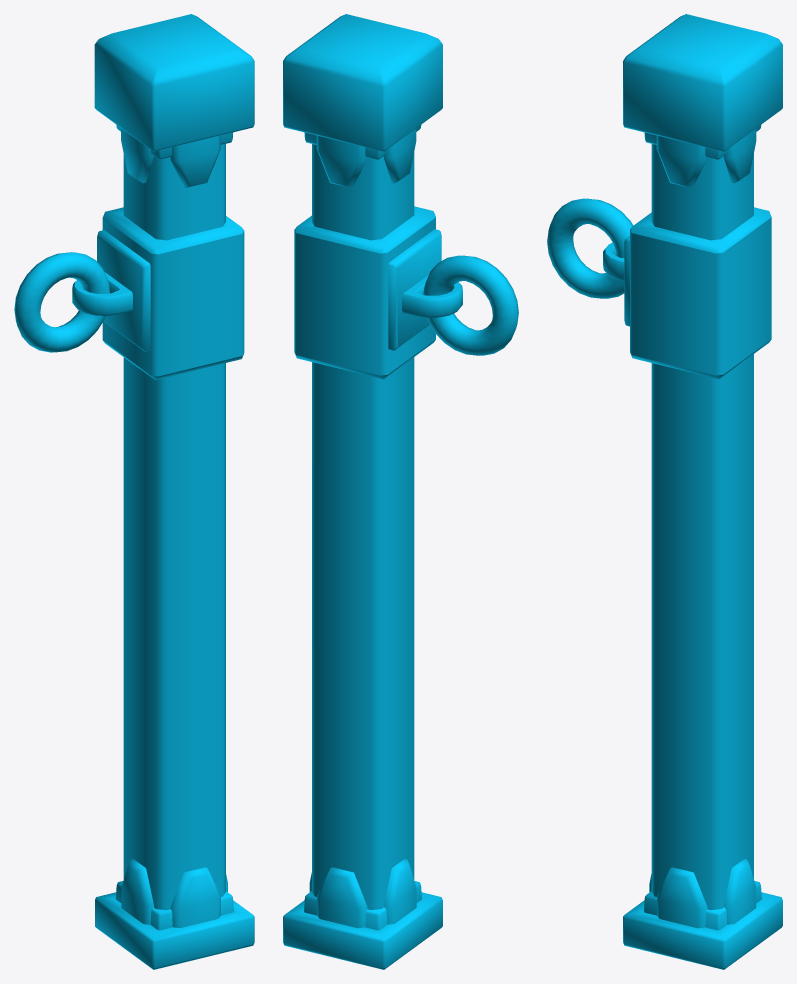
File: PillarSimple.FBX
3 renders of one model, left to right at view 1: azimuth 30°, elevation 25°; view 2: azimuth 150°, elevation 25°; view 3: azimuth 330°, elevation 25°, orthographic.
Parts seen in each view (by area): view 1: PillarSimple; view 2: PillarSimple; view 3: PillarSimple.
Boxes of the visible parts, x1,y1,x2,y2 form: PillarSimple: (14, 14, 254, 969); PillarSimple: (283, 14, 518, 969); PillarSimple: (547, 14, 782, 969).
Bounding box in the file's own units: 0.8925 × 3.67 × 0.4417.
